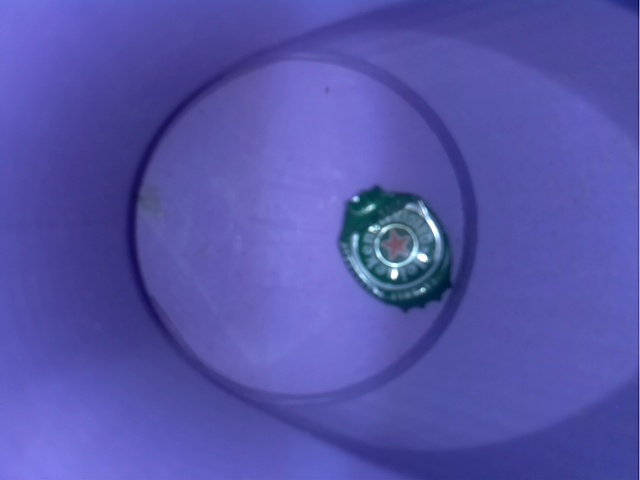capsule: (316, 180, 469, 314)
